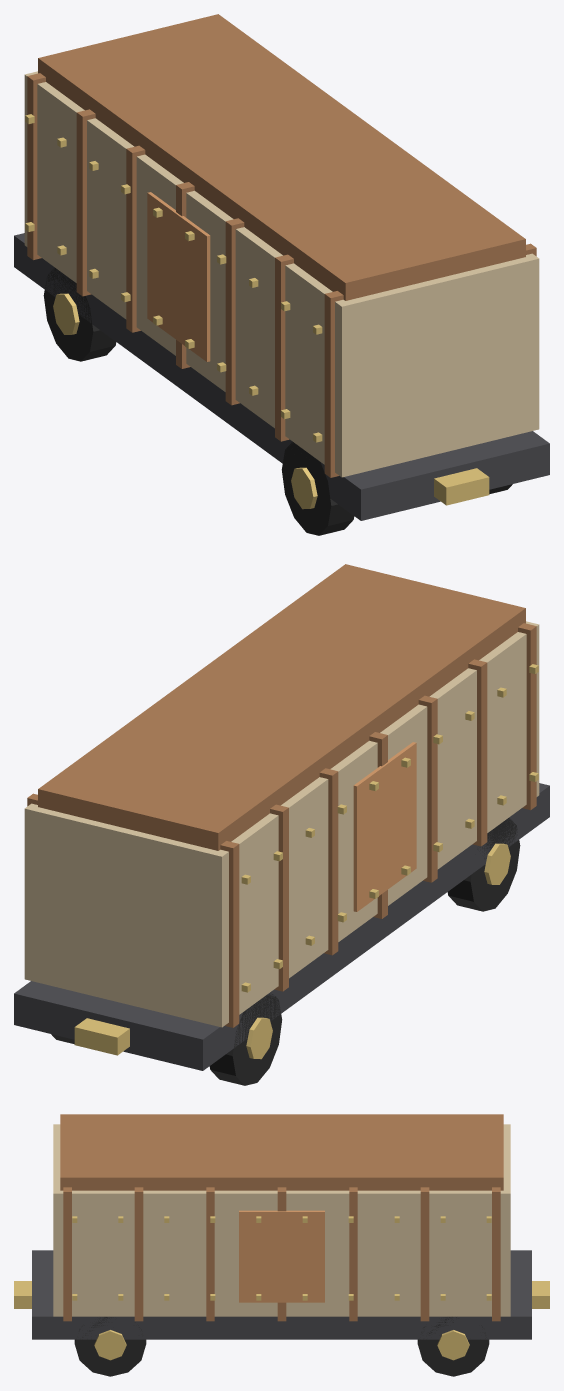
Rendered from carriage_cargo.glb.
The picture shows the model from 3 angles, top to bottom: view 1: azimuth 30°, elevation 25°; view 2: azimuth 150°, elevation 25°; view 3: azimuth 270°, elevation 25°; orthographic projection. The views are drawn at different scales.
Visible parts, largest first — view 1: chassis, wheel_fl, wheel_rl; view 2: chassis, wheel_rl, wheel_fl; view 3: chassis, wheel_rr, wheel_fr.
Boxes of the visible parts, <box> form: chassis: <box>14,14,549,520</box>; wheel_fl: <box>281,442,354,535</box>; wheel_rl: <box>43,267,116,361</box>; chassis: <box>14,564,549,1070</box>; wheel_rl: <box>209,993,282,1085</box>; wheel_fl: <box>447,817,520,911</box>; chassis: <box>14,1114,549,1339</box>; wheel_rr: <box>417,1316,489,1376</box>; wheel_fr: <box>74,1317,146,1376</box>.
Bounding box in the file's own units: 2.59 × 3.05 × 7.5.
